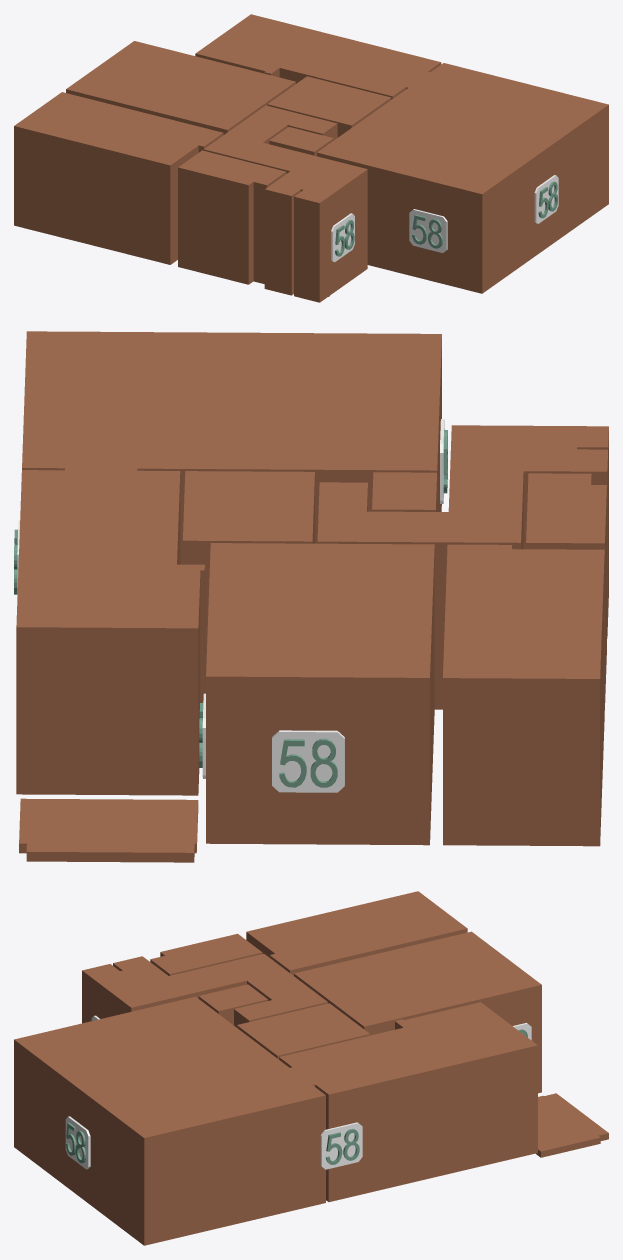
The picture shows the model from 3 angles, top to bottom: view 1: azimuth 30°, elevation 25°; view 2: azimuth 150°, elevation 25°; view 3: azimuth 270°, elevation 25°; orthographic projection. The views are drawn at different scales.
Parts seen in each view (by area): view 1: g_1, g_4, g_7, g_3, g_5, g_0, g_2, g_6, g_11, g_23, g_26; view 2: g_3, g_1, g_0, g_4, g_7, g_8, g_2, g_5, g_17, g_6, g_16, g_15; view 3: g_1, g_0, g_3, g_7, g_4, g_2, g_8, g_5, g_6, g_14, g_23.
Boxes of the visible parts, left/top/right/bottom form: g_1: left=317, top=63, right=608, bottom=293; g_4: left=14, top=92, right=223, bottom=264; g_7: left=203, top=105, right=367, bottom=302; g_3: left=66, top=41, right=295, bottom=134; g_5: left=178, top=150, right=286, bottom=284; g_0: left=195, top=14, right=441, bottom=99; g_2: left=267, top=76, right=391, bottom=137; g_6: left=269, top=127, right=333, bottom=156; g_11: left=409, top=209, right=447, bottom=252; g_23: left=534, top=175, right=558, bottom=223; g_26: left=331, top=213, right=354, bottom=262; g_3: left=206, top=543, right=434, bottom=845; g_1: left=22, top=331, right=441, bottom=564; g_0: left=16, top=469, right=204, bottom=795; g_4: left=443, top=544, right=604, bottom=846; g_7: left=317, top=425, right=608, bottom=709; g_8: left=19, top=798, right=198, bottom=862; g_2: left=183, top=471, right=314, bottom=693; g_5: left=526, top=473, right=606, bottom=710; g_17: left=272, top=730, right=344, bottom=792; g_6: left=372, top=472, right=436, bottom=511; g_16: left=310, top=738, right=337, bottom=787; g_15: left=279, top=739, right=306, bottom=787; g_1: left=14, top=996, right=325, bottom=1245; g_0: left=279, top=1002, right=537, bottom=1201; g_3: left=294, top=931, right=541, bottom=1093; g_7: left=82, top=953, right=327, bottom=1027; g_4: left=246, top=891, right=467, bottom=975; g_2: left=237, top=1003, right=370, bottom=1059; g_8: left=536, top=1093, right=608, bottom=1157; g_5: left=150, top=933, right=262, bottom=975; g_6: left=198, top=984, right=267, bottom=1025; g_14: left=320, top=1122, right=362, bottom=1169; g_23: left=65, top=1116, right=90, bottom=1169.
Size of the model in its own units: 12.67 by 2.74 by 12.9.
